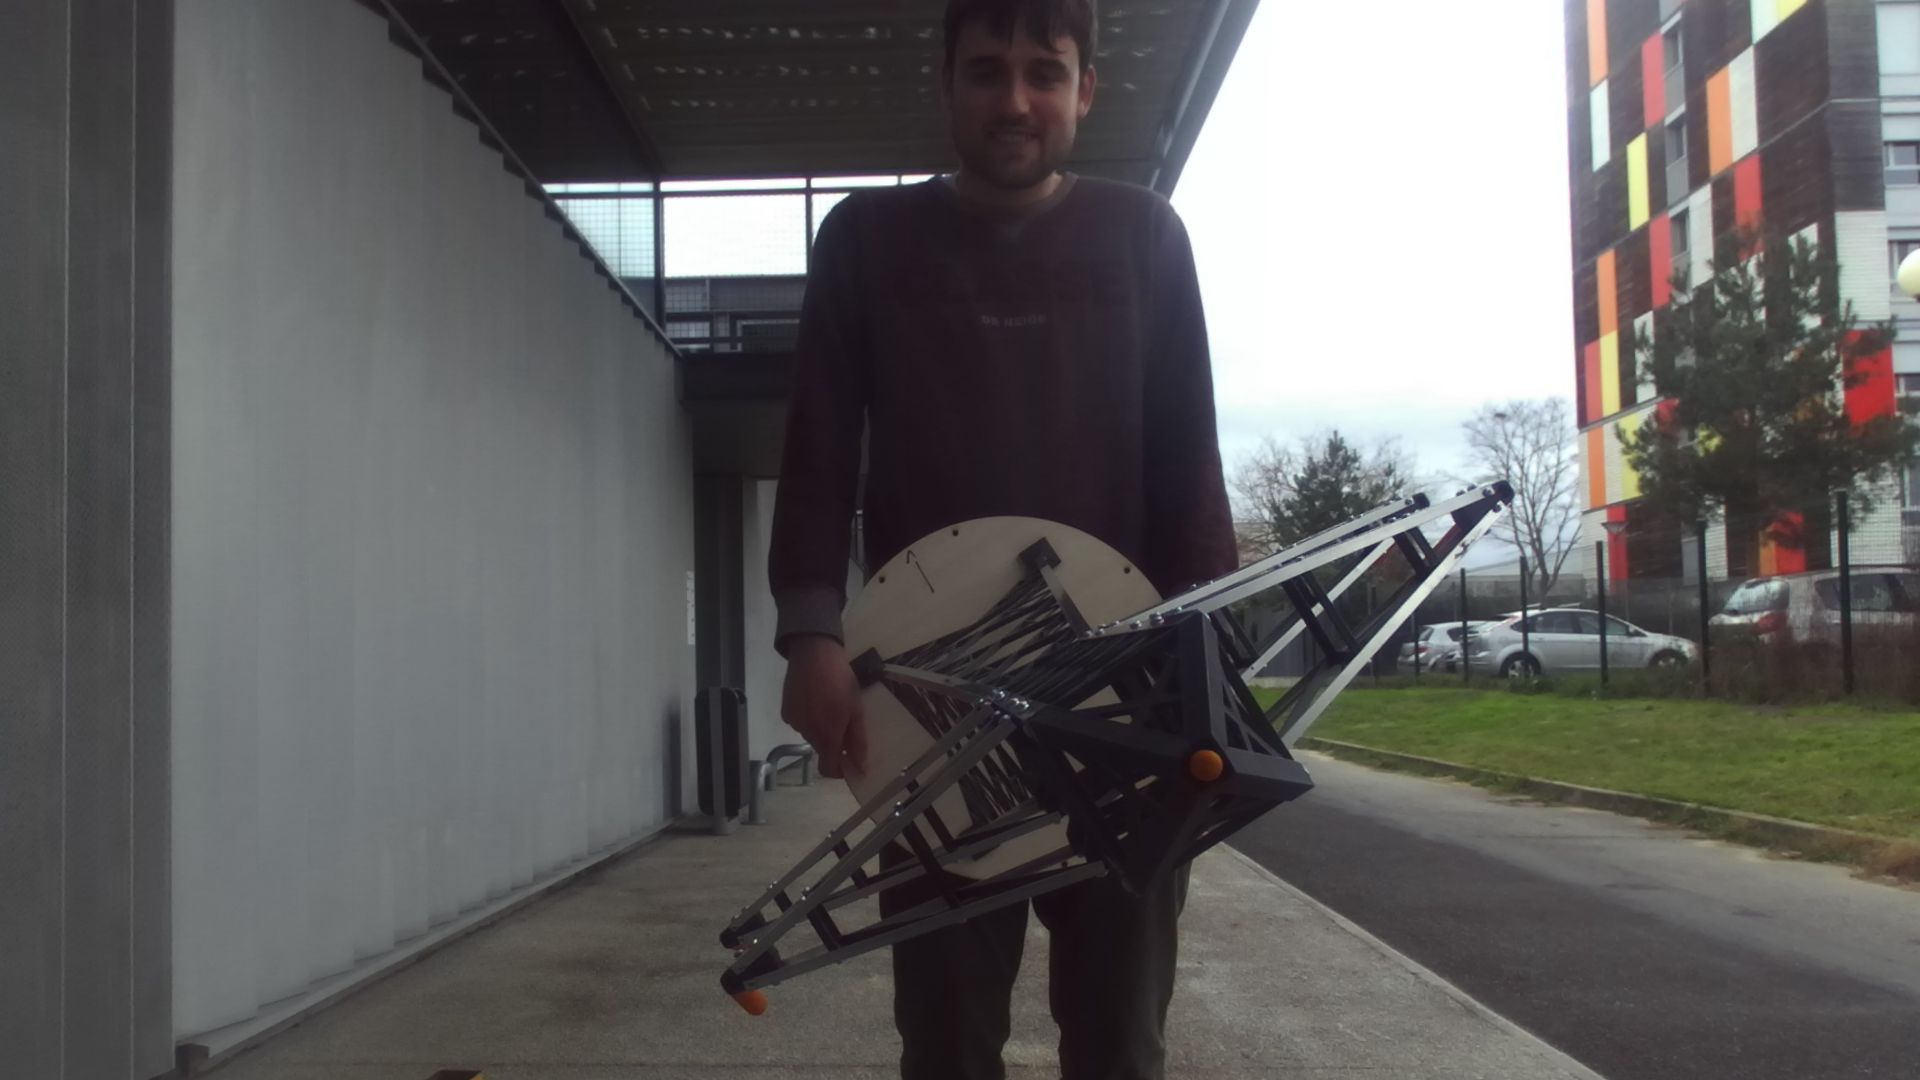pylon_phy: (713, 475, 1520, 998)
